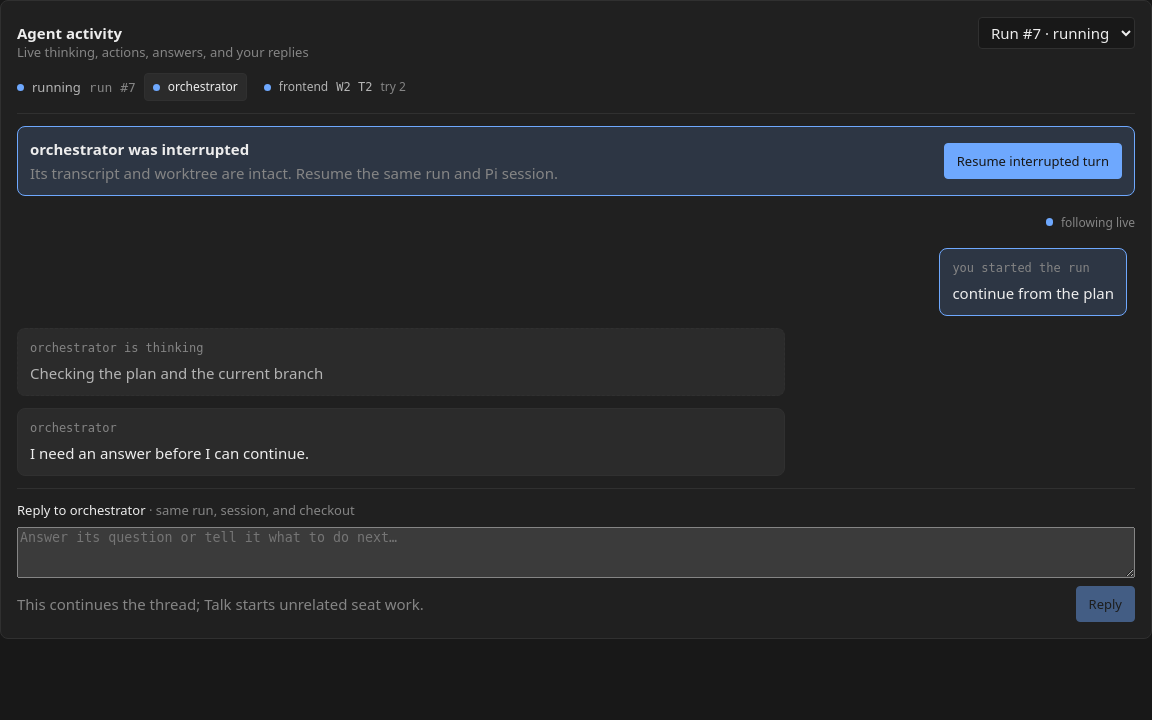
Test: resumes an interrupted turn when the operator replies to it
The image size is (1152, 720).
Type "Continue from the existing diff." into the text box labelled "Reply to orchestrator · same run, session, and checkout".
click(576, 552); type("Continue from the existing diff.")  # box [17,527,1135,578]
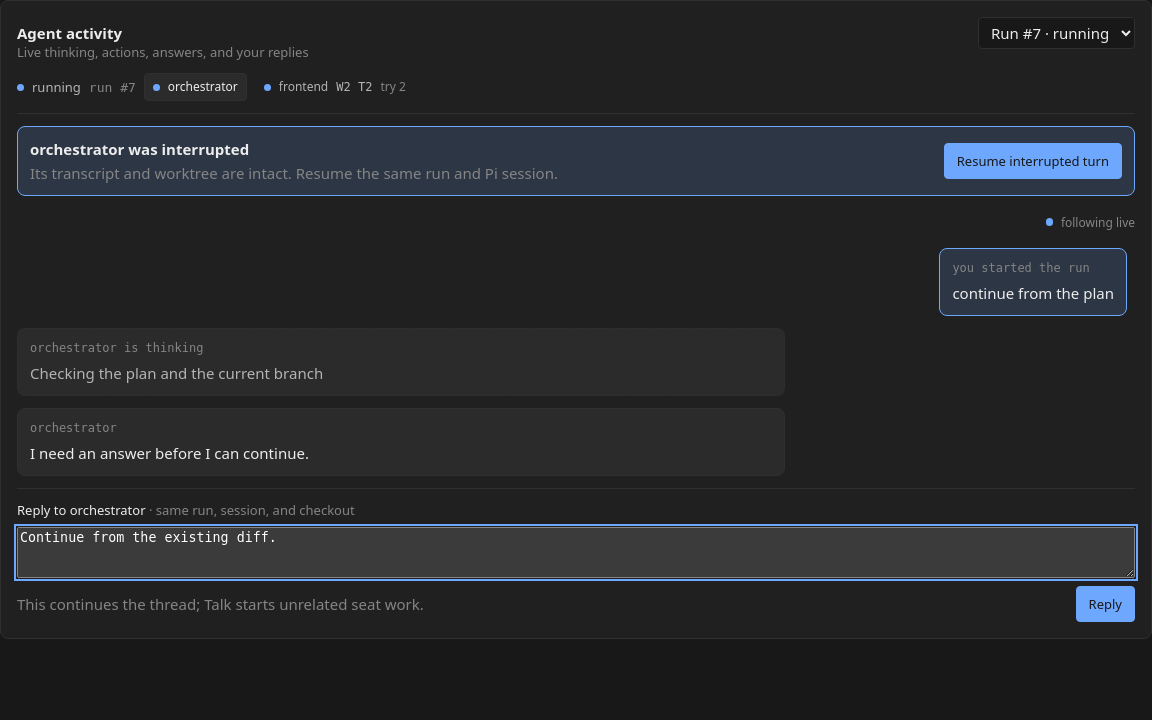
Click the button "Reply".
click(1105, 604)  # box [1076,586,1135,622]
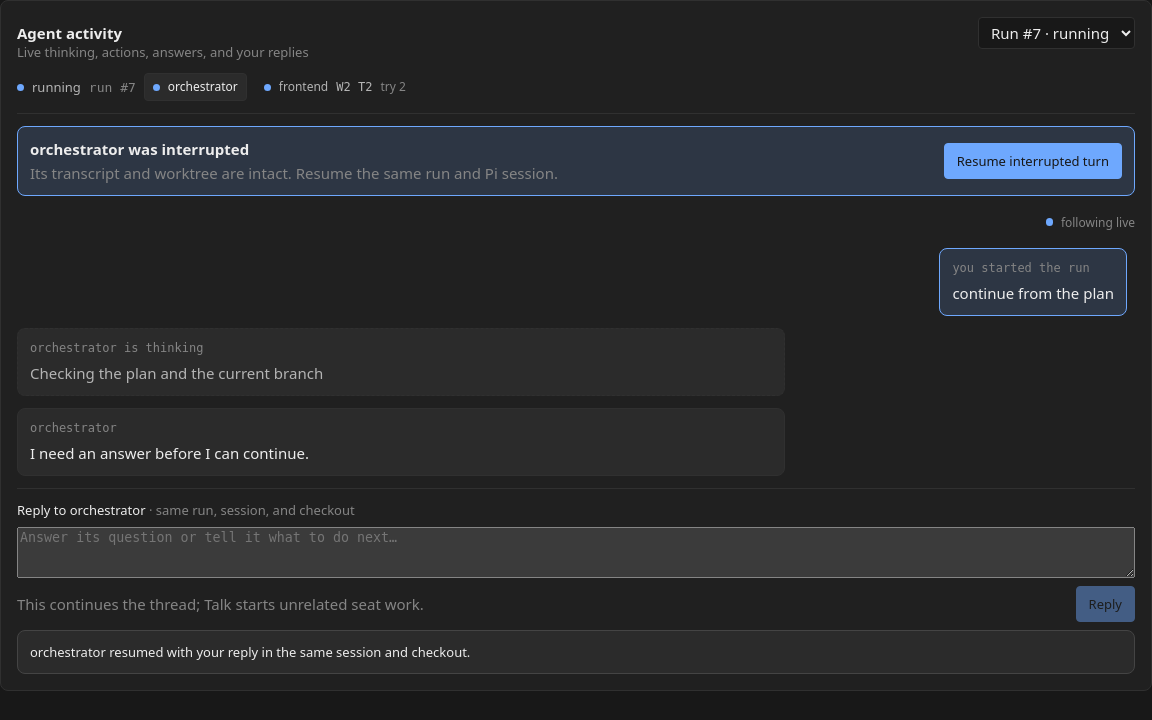
Now the text "resumed with your reply in the same session" is shown, box [30,643,470,661]
